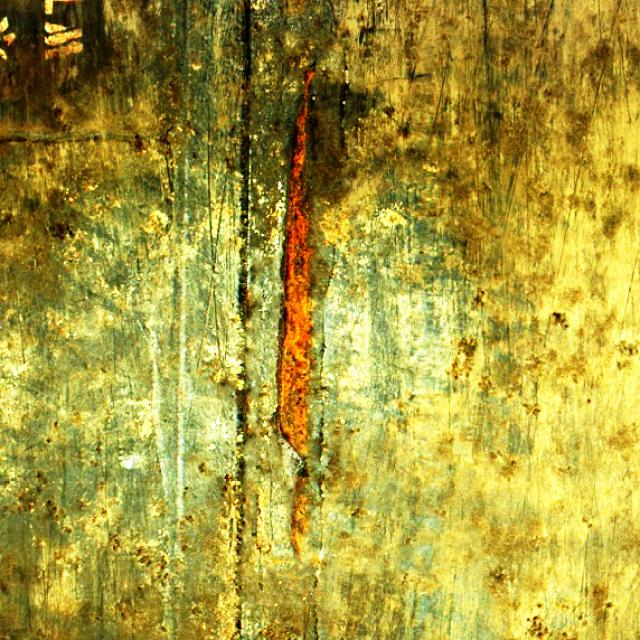Corrosion: (278, 68, 317, 465), (290, 474, 308, 558)
